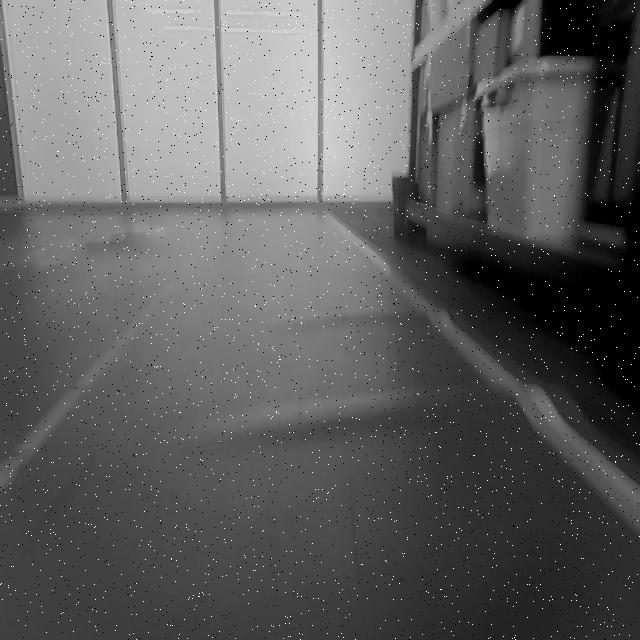left_lane: (0, 232, 220, 492)
right_lane: (323, 217, 640, 532)
